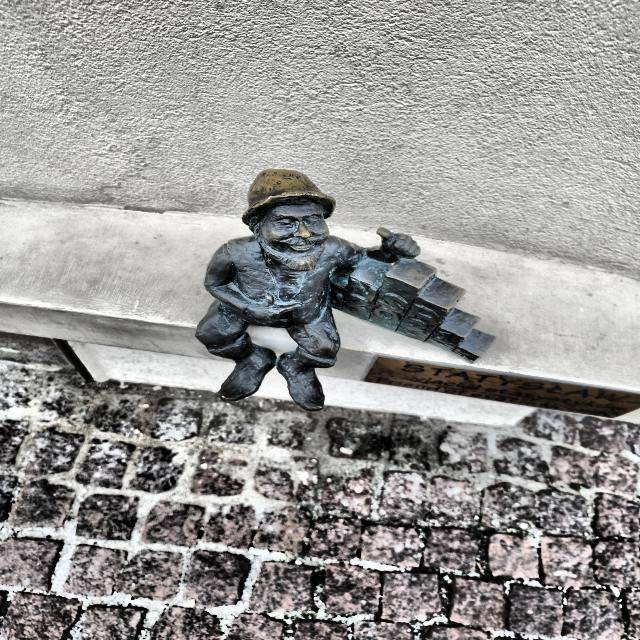Statyslaw: (195, 169, 495, 410)
